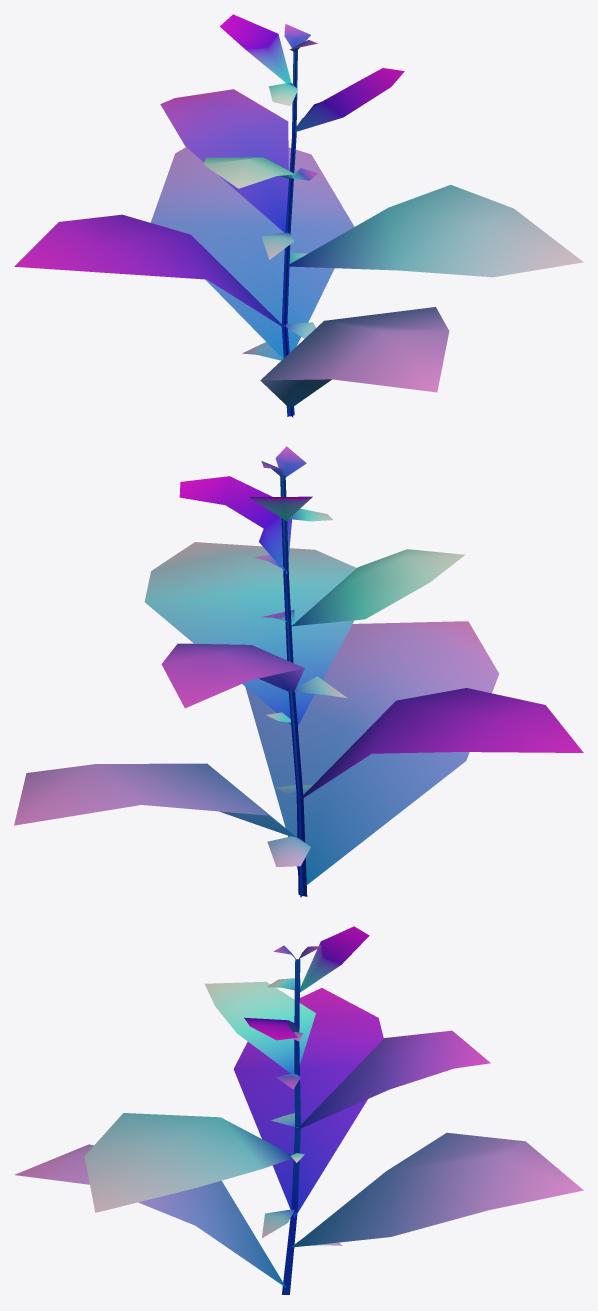
The model's file is Greater Burdock_LOD4_Var3_xh5pdgiqx.fbx.
3 views of the same model, one above another, from view 1: azimuth 30°, elevation 25°; view 2: azimuth 150°, elevation 25°; view 3: azimuth 270°, elevation 25° (orthographic). The views are drawn at different scales.
Parts seen in each view (by area): view 1: _w0ou_Var3_LOD4; view 2: _w0ou_Var3_LOD4; view 3: _w0ou_Var3_LOD4.
Boxes of the visible parts, x1,y1,x2,y2 form: _w0ou_Var3_LOD4: (14, 14, 583, 417); _w0ou_Var3_LOD4: (14, 446, 583, 897); _w0ou_Var3_LOD4: (14, 926, 583, 1294).
Size of the model in its own units: 74.23 by 59.03 by 85.87.
